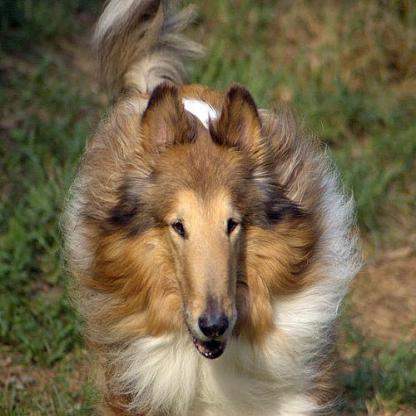collie: (63, 0, 358, 413)
